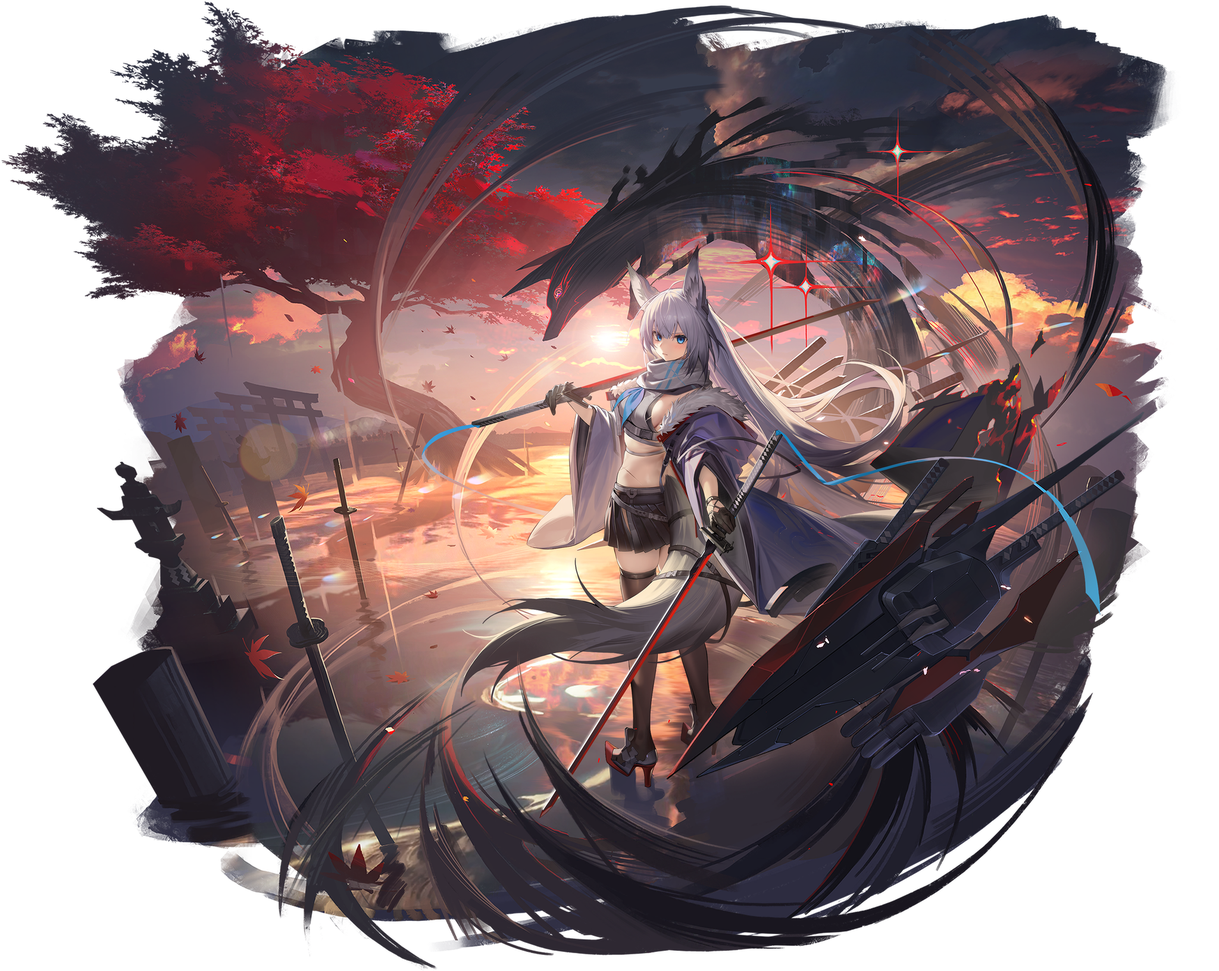person: (440, 217, 857, 838)
